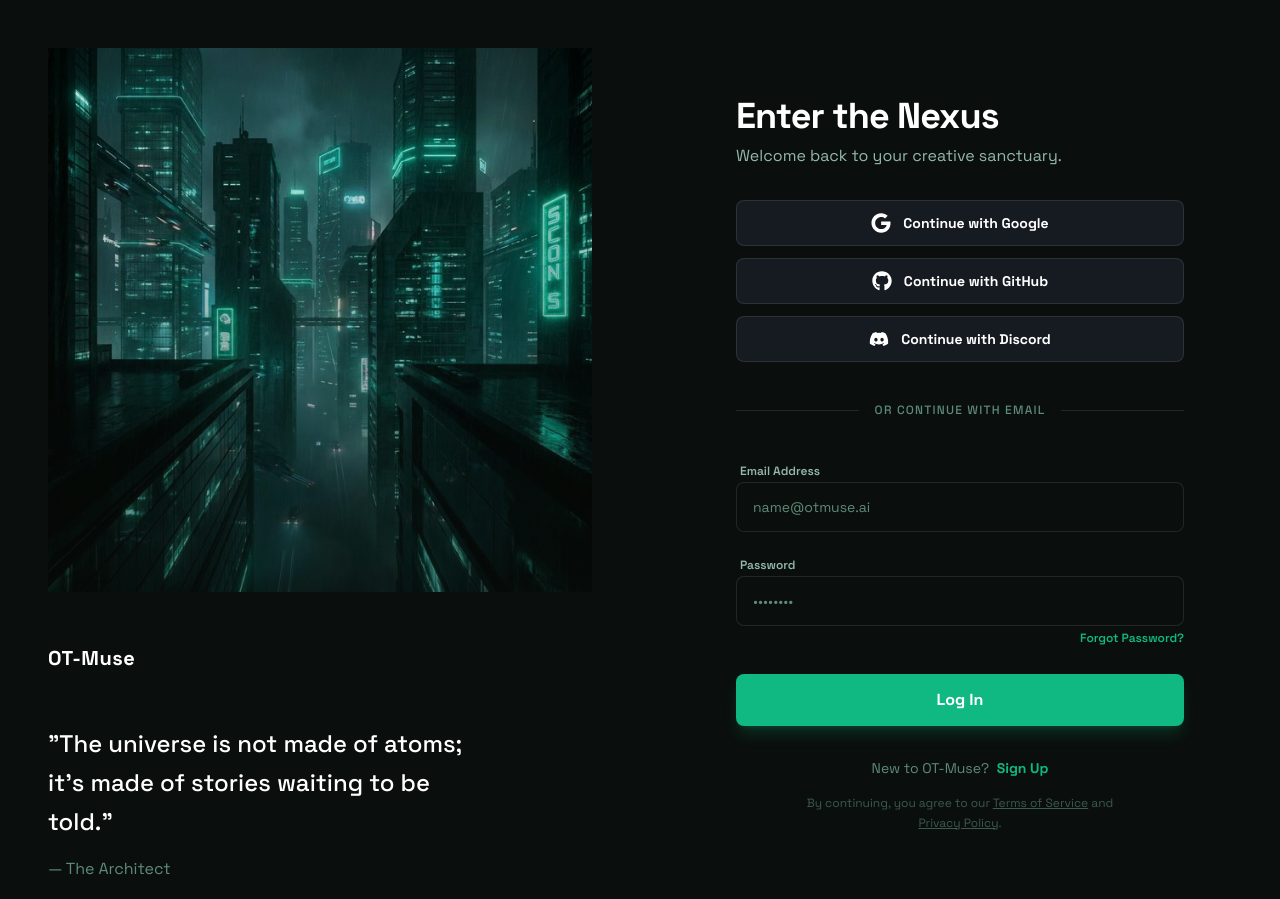
Test case: LoginPage › clears errors when user starts typing
The width and height of the screenshot is (1280, 899).
Click the button "Log In" at (960,700), box top-left (736, 674), bottom-right (1184, 726)
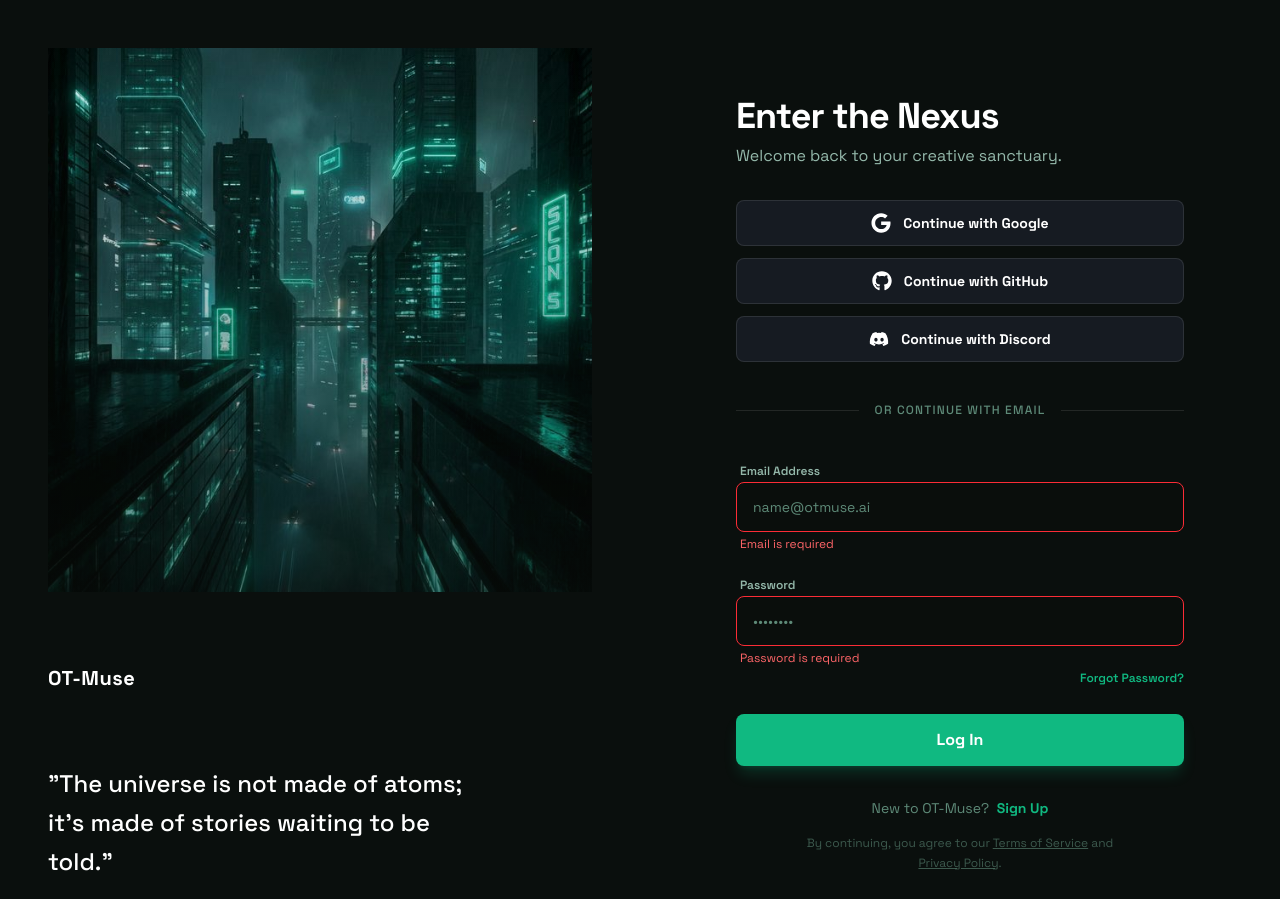
Expected: the text "Email is required" is shown, top-left (740, 536), bottom-right (834, 552)
Type "a" into the field labelled "Email Address" at (960,507), box top-left (736, 482), bottom-right (1184, 532)
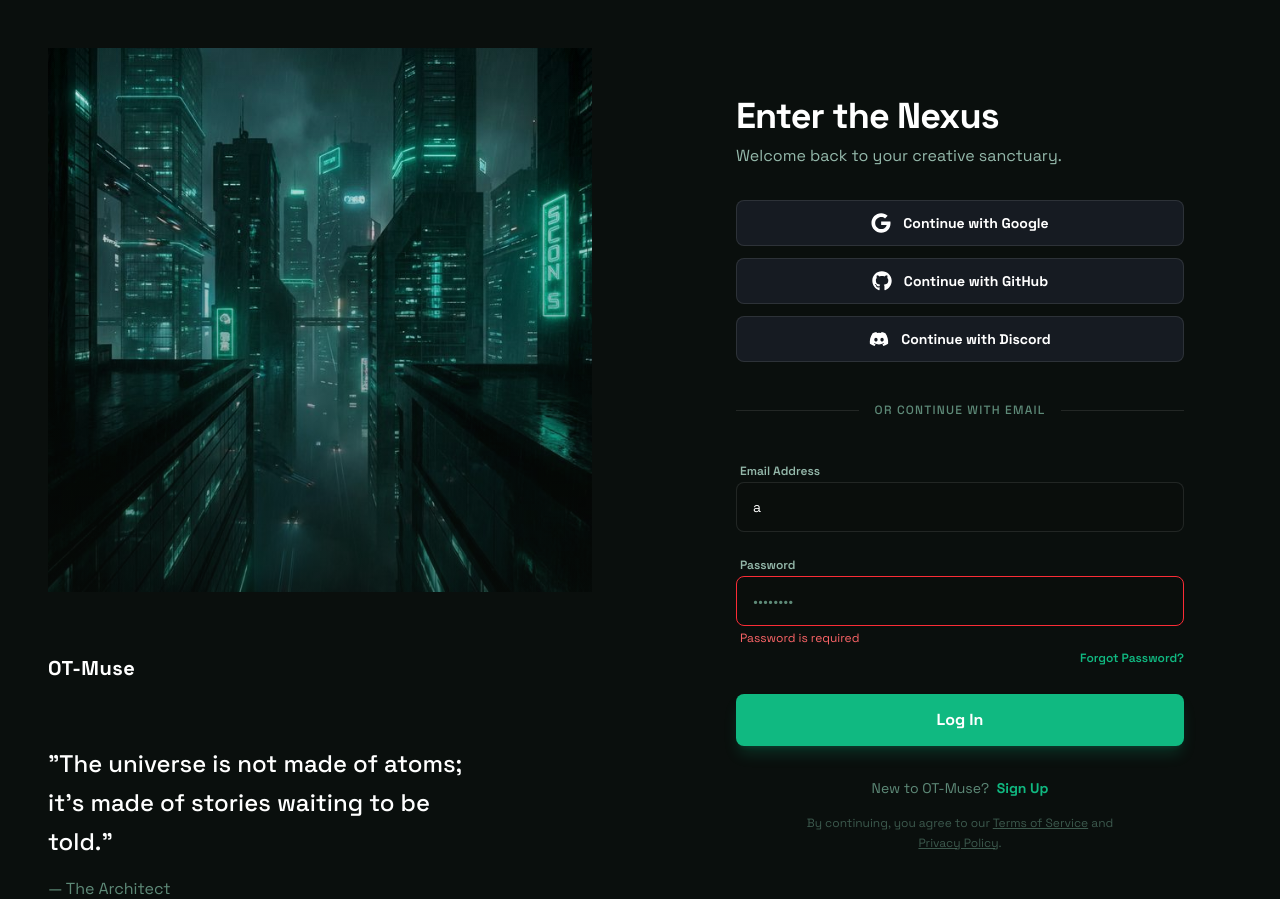
Expected: the text "Email is required" is gone
